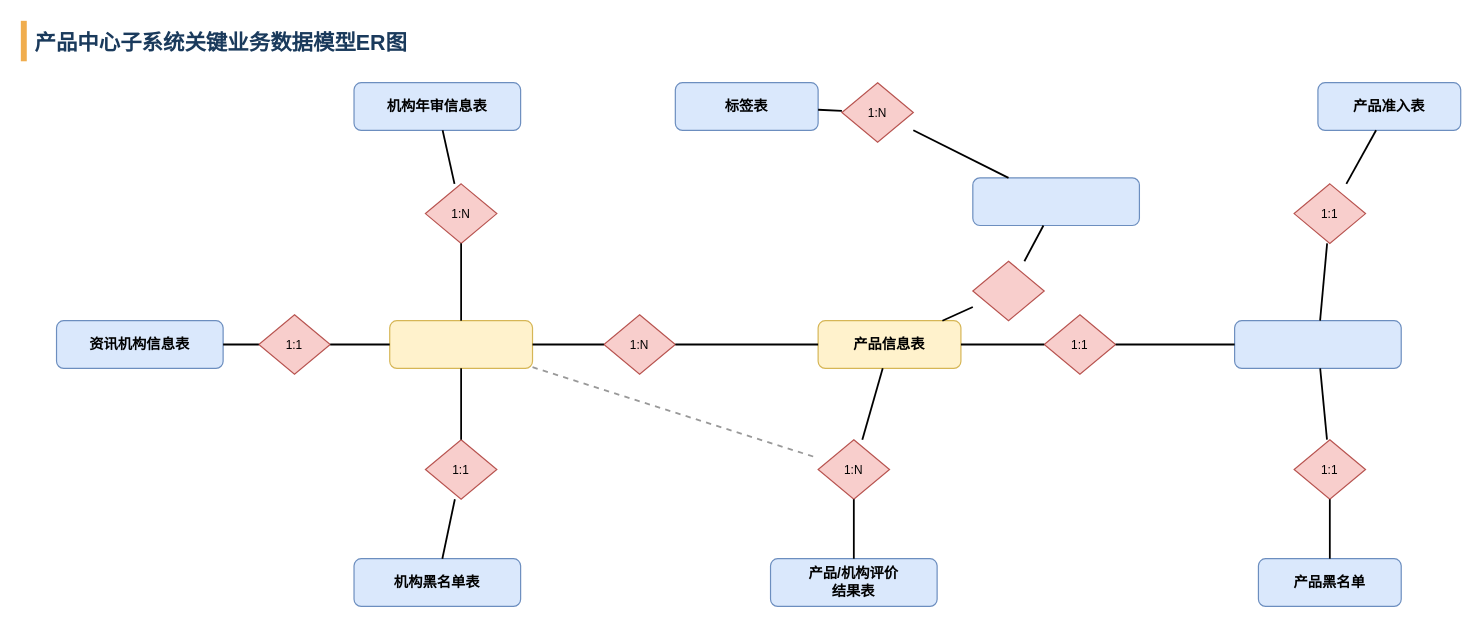
Image size: 1482x627. Some labels were removed from this diagram. Here are the shapes that lost their labels. From the top down, the centre of each, then its label:
(1055,201): 标签产品关系表
(1008,290): N:N
(461,344): 机构信息表
(1317,344): 资讯产品信息表
